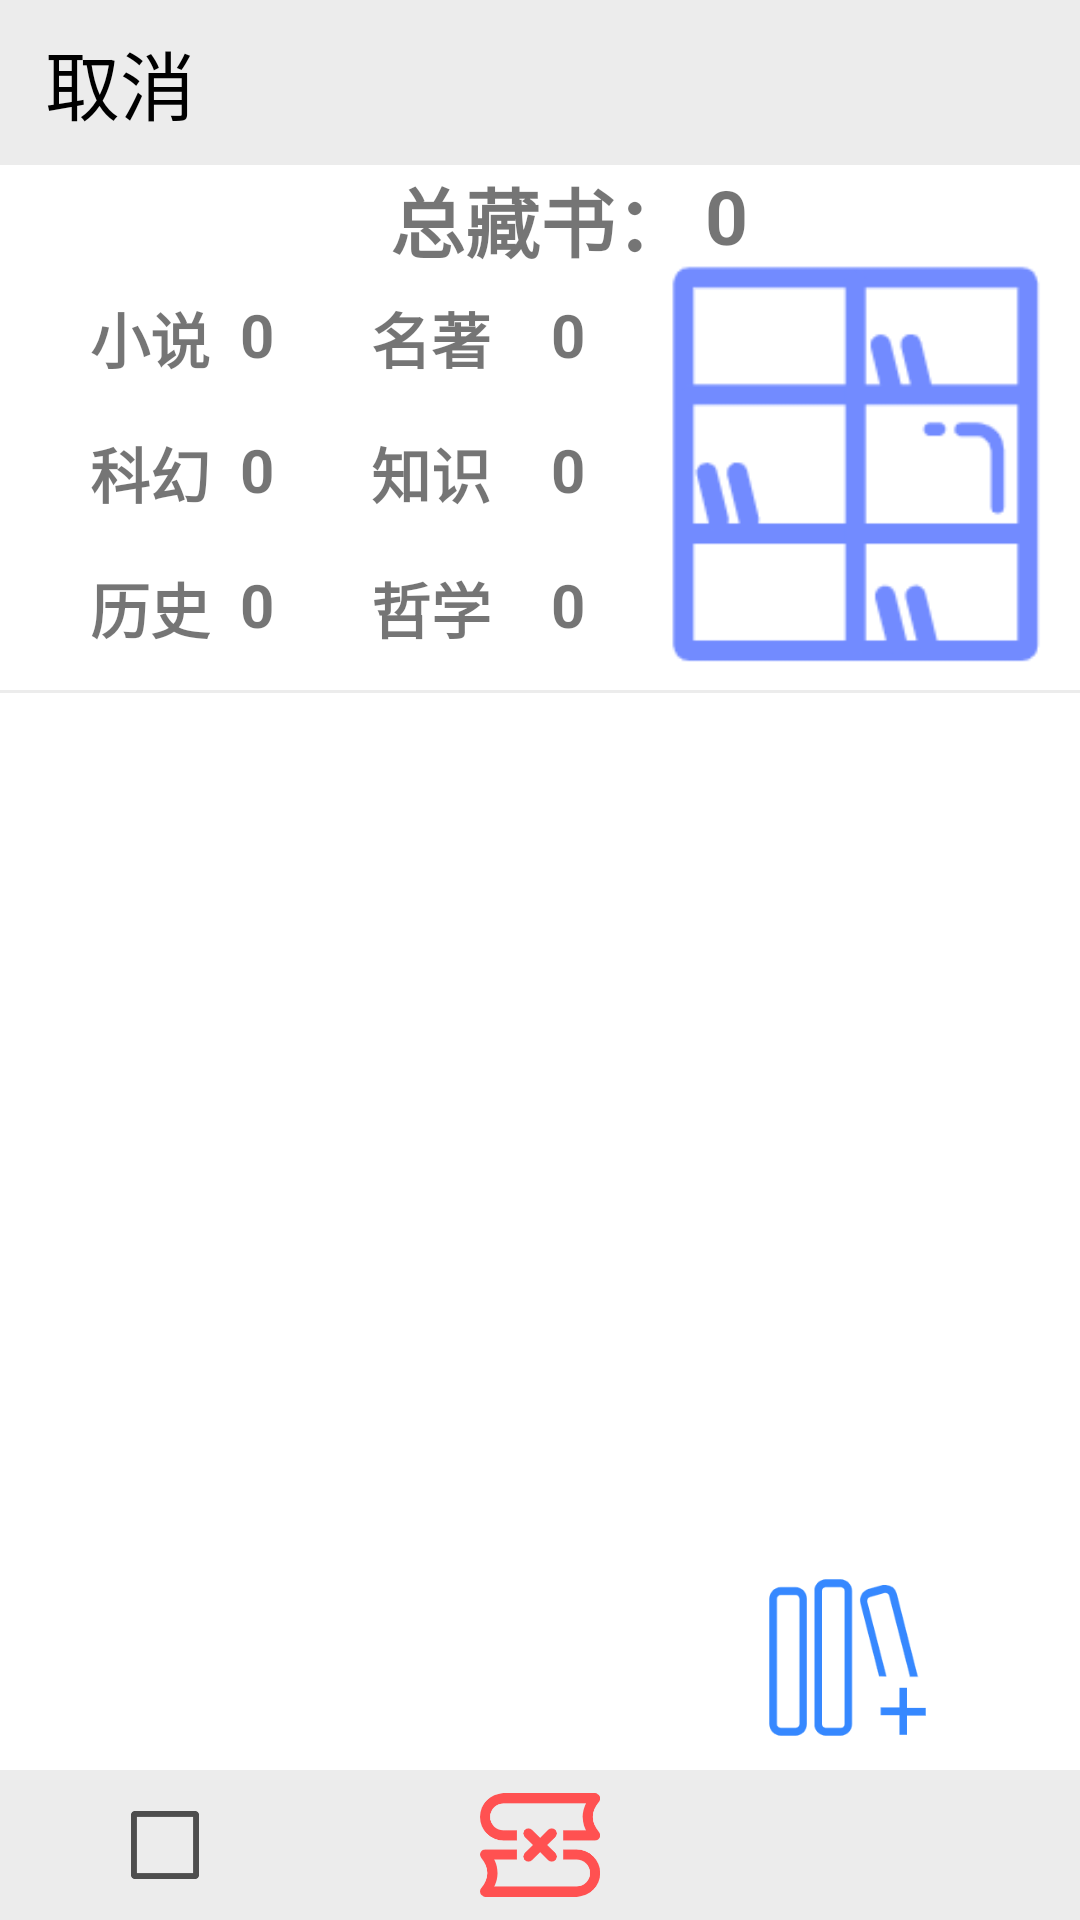

Named icons in this screenshot (1080 x 1920) and their bounding boxes, (x1, y1, x2, y2):
choose: (131, 1811, 199, 1879)
tianjia: (769, 1579, 926, 1736)
